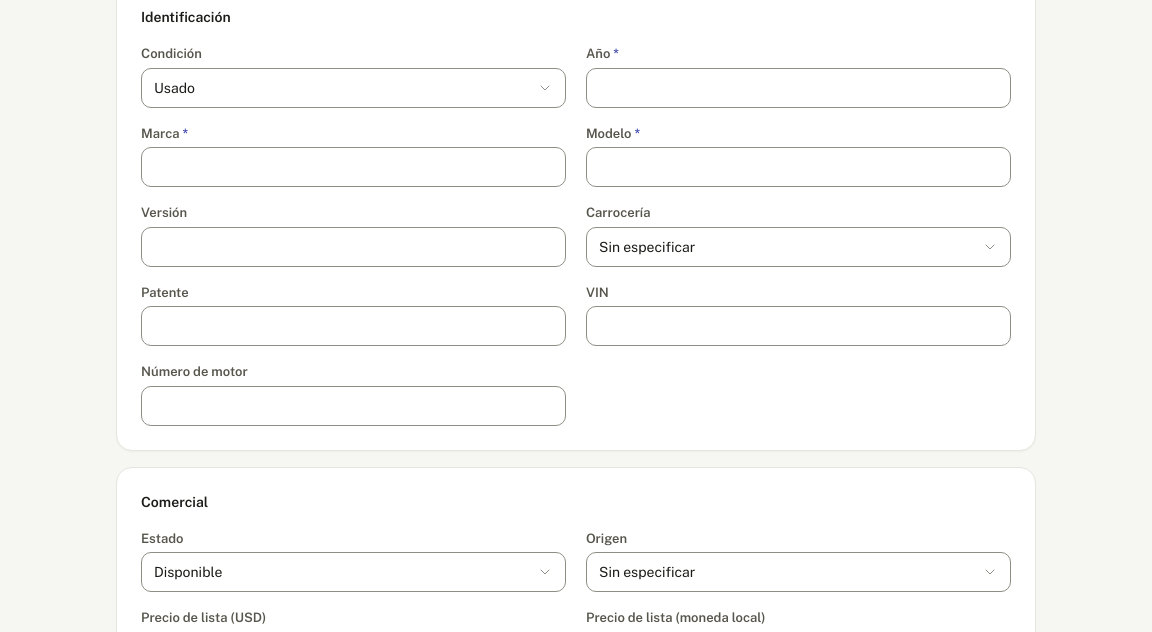
Scenario: VehicleFormPage — completitud para publicar › el checklist local se recalcula al tipear
This screenshot has width=1152, height=632.
Type "JTDBR32E720000000" into the field labelled "VIN" at (798, 326), box [586,306,1011,346]
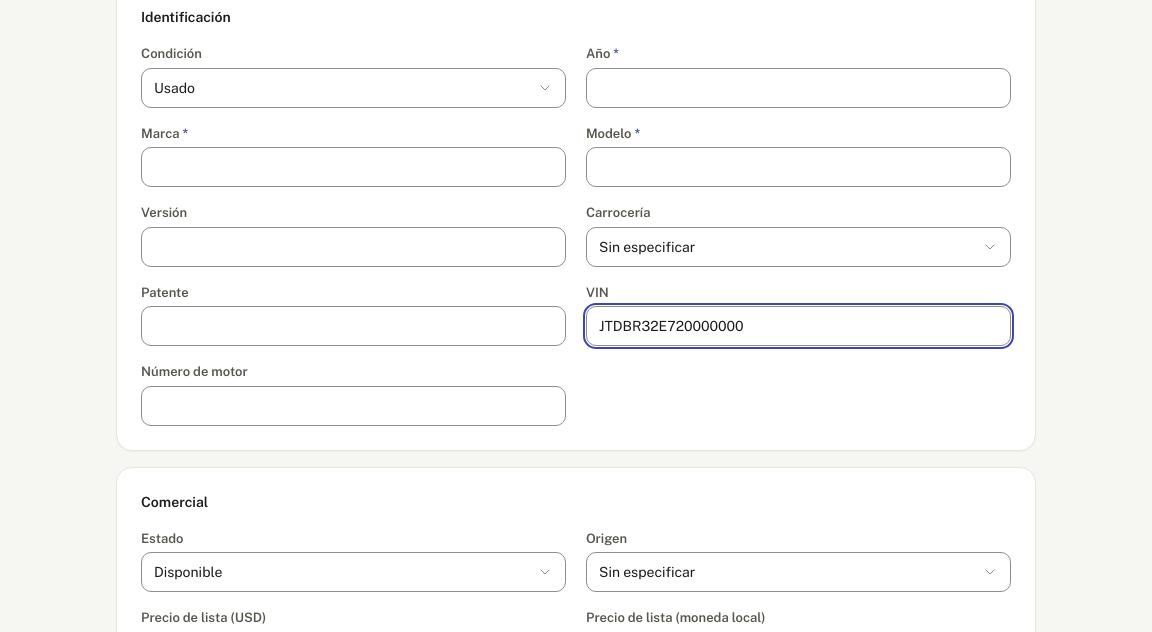
Click the dropdown labelled "Condición" at (354, 88), box [141,68,566,108]
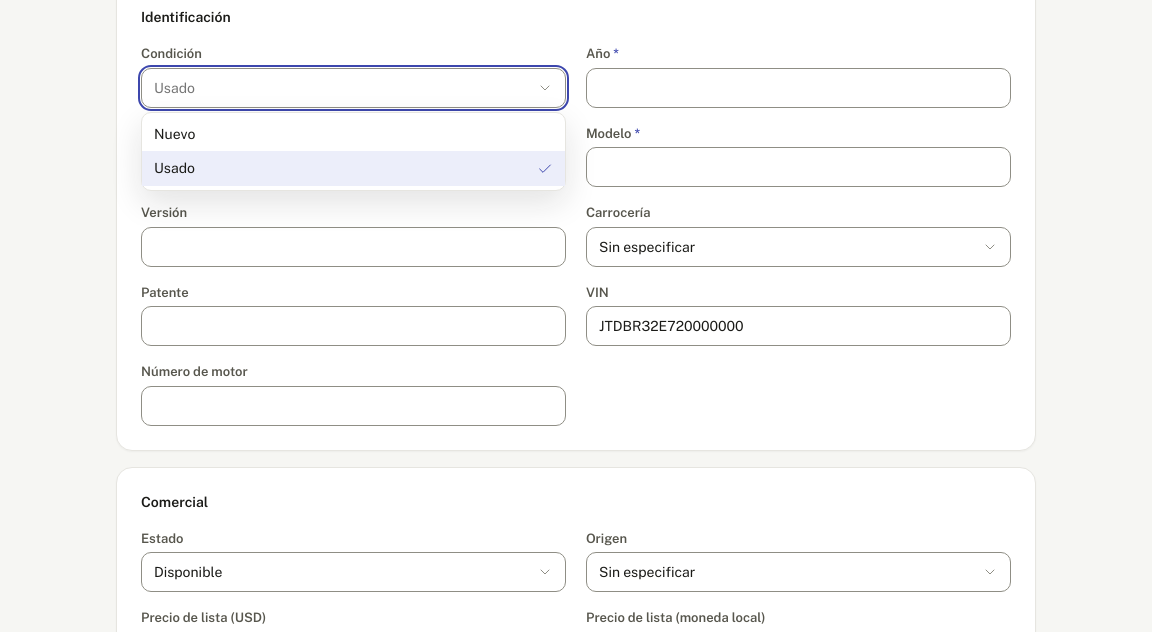
Click the option "Nuevo" at (175, 134), box [154,126,195,142]
(page scrolled)
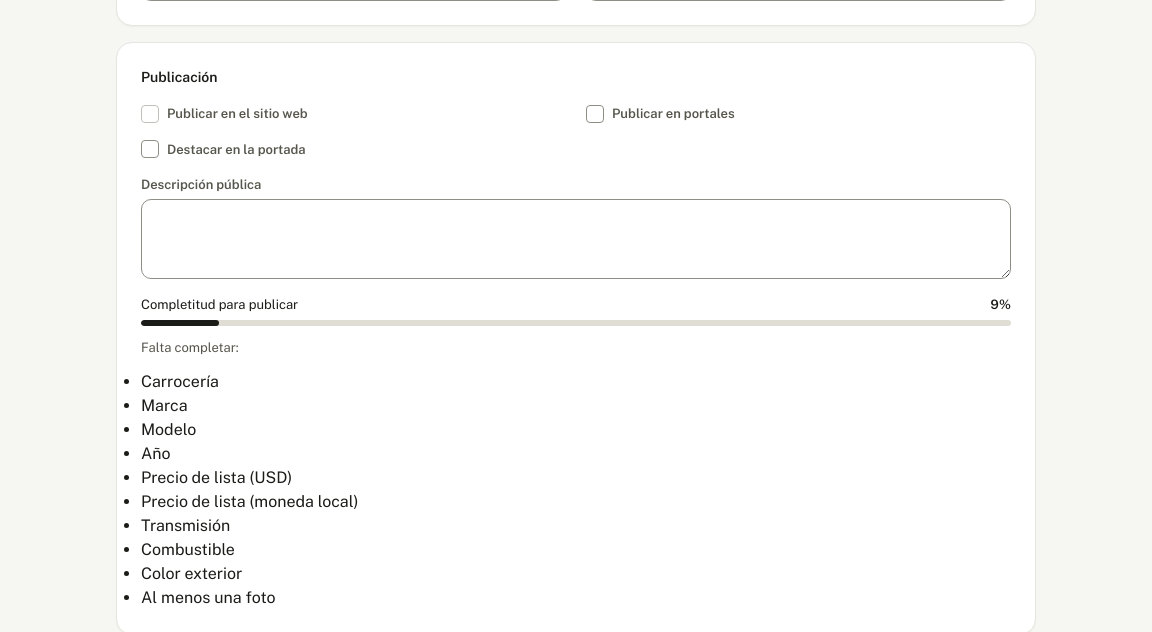
Expected: the text "Patente" is not shown
Expected: the text "9%" is shown, [990,294,1011,314]
